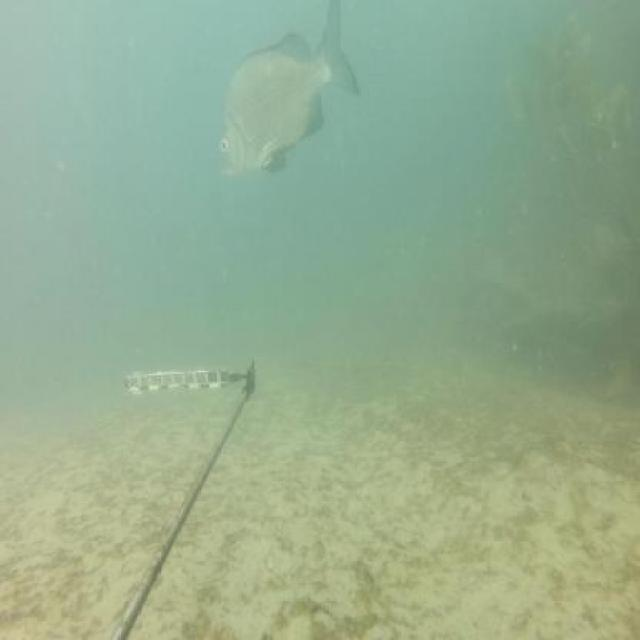acanthopagrus_palmaris: (218, 1, 362, 202)
